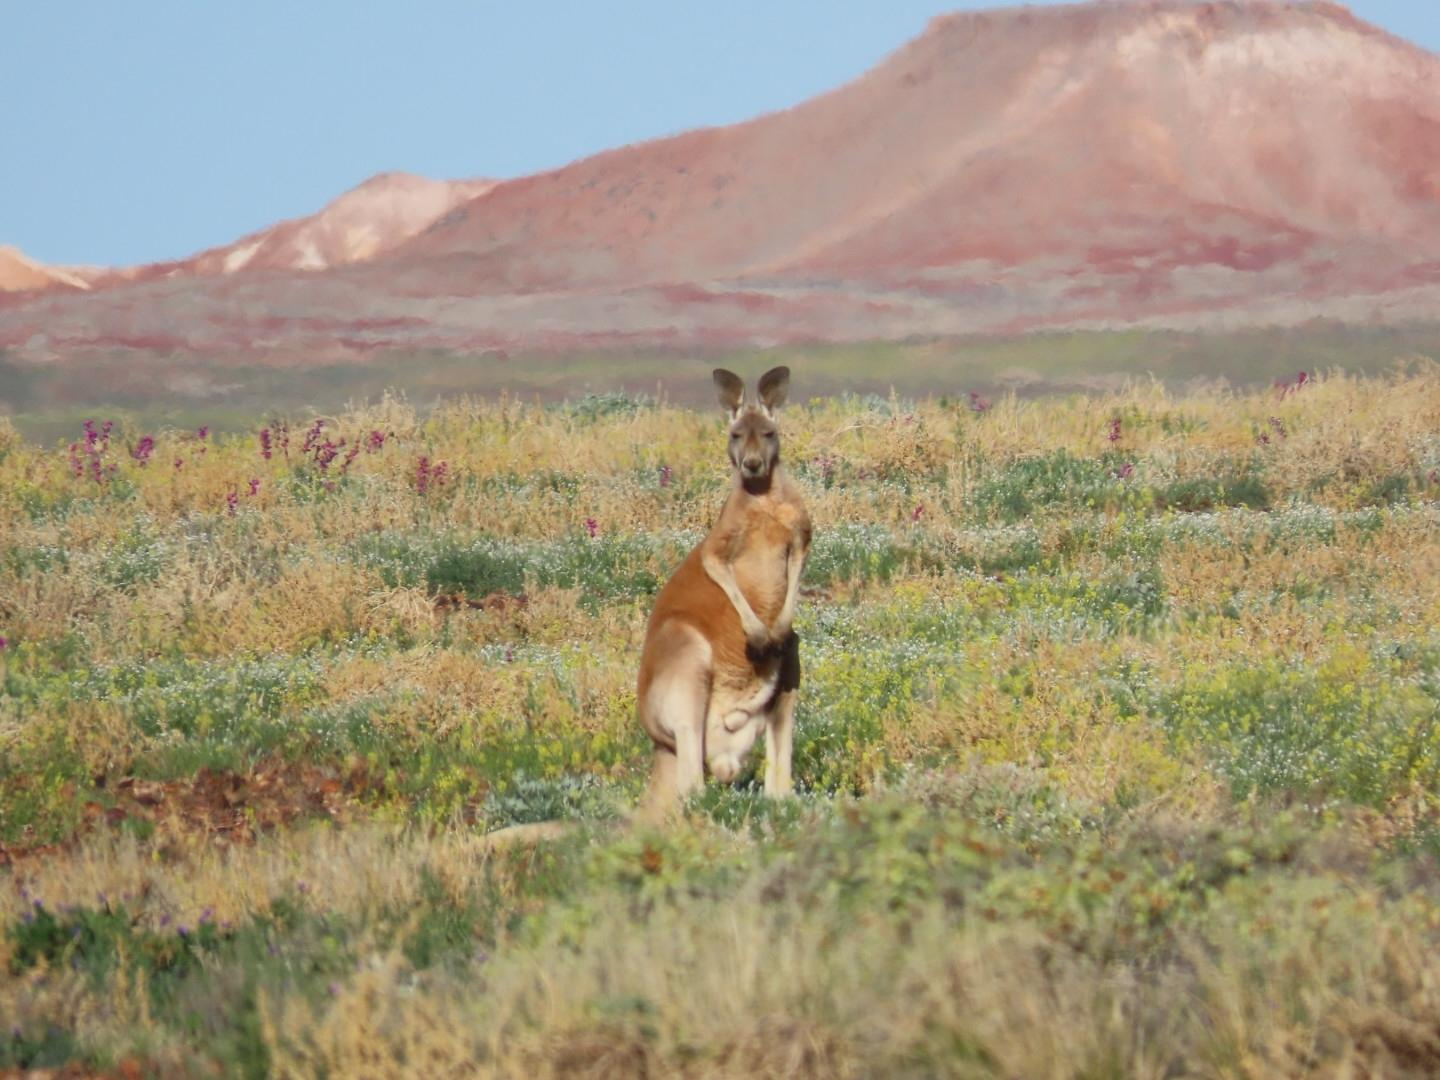Red kangaroo: (435, 362, 815, 863)
